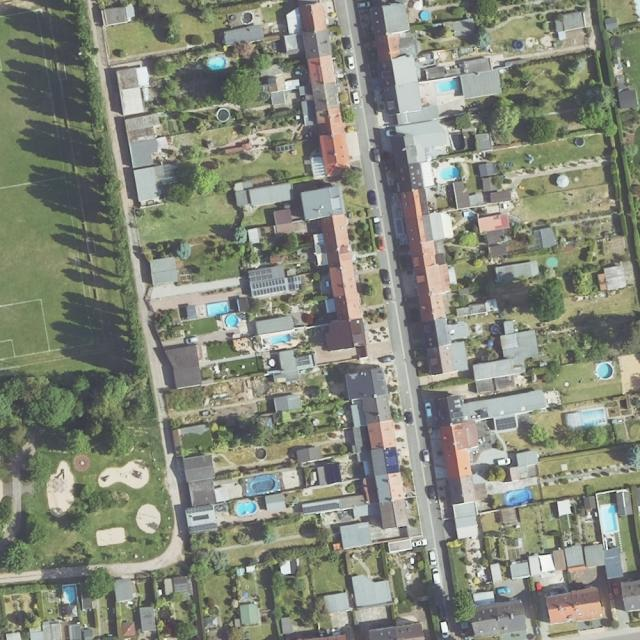PV: (249, 267, 305, 298), (303, 503, 339, 513), (495, 418, 518, 431), (189, 523, 218, 532), (186, 505, 214, 514), (276, 146, 293, 152)
